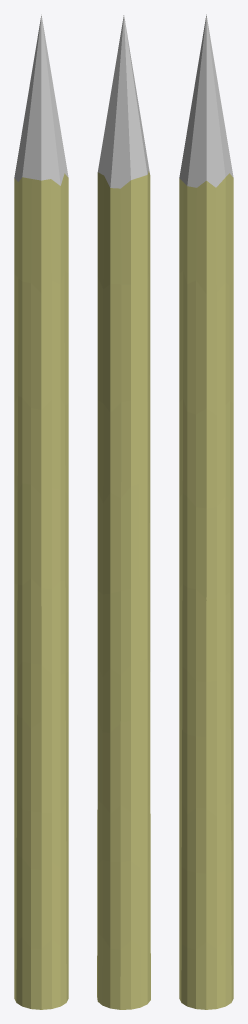
File: woodspear.fbx
3 views of the same model, side by side, from view 1: azimuth 90°, elevation 25°; view 2: azimuth 150°, elevation 25°; view 3: azimuth 270°, elevation 25° (orthographic).
Visible parts, largest first — view 1: 円柱.001; view 2: 円柱.001; view 3: 円柱.001.
Part boxes in pixels (x1=…): 円柱.001: x1=14, y1=14, x2=68, y2=1009; 円柱.001: x1=97, y1=15, x2=150, y2=1009; 円柱.001: x1=179, y1=14, x2=233, y2=1009.
Size of the model in its own units: 60 by 1200 by 60.
